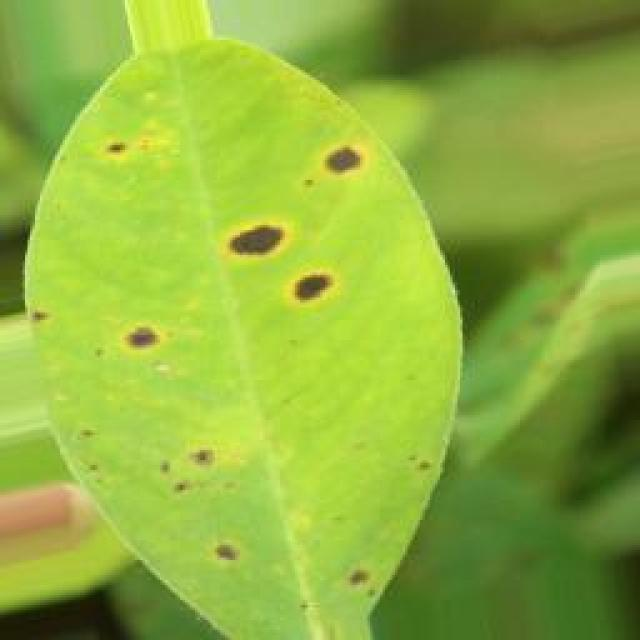Early_leaf_spot: (219, 199, 346, 310), (84, 274, 176, 390), (127, 424, 215, 510), (63, 386, 128, 470), (285, 126, 360, 194), (82, 114, 158, 178), (0, 284, 64, 350), (331, 540, 396, 596), (207, 515, 259, 581)
